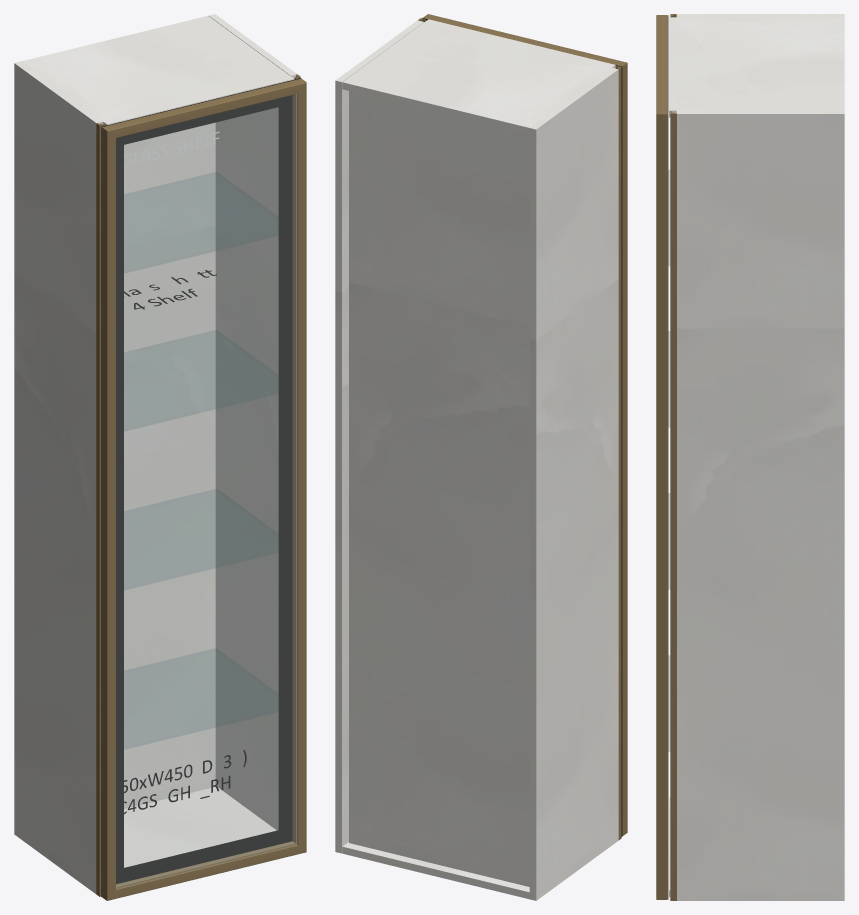
File: MDW-SH-NHX-GL-4SG-RHS-XXX-450-1650-336-15.glb
3 views of the same model, side by side, from view 1: azimuth 30°, elevation 25°; view 2: azimuth 150°, elevation 25°; view 3: azimuth 270°, elevation 25° (orthographic). The views are drawn at different scales.
Parts seen in each view (by area): view 1: Object_node_13, TP_node_0, TP_node_2, TP_node_1, Neon 22 Profile ALU PROF NEON 20 L21XH22.5MM 3MTR S2/405 SEC (×4), Object_node_15, TP, TP_node, Object_node_17, 2D text_node; view 2: TP_node_2, TP_node_0, TP, TP_node_1, Neon 22 Profile ALU PROF NEON 20 L21XH22.5MM 3MTR S2/405 SEC (×2), Object_node_17, TP_node, Object_node_15; view 3: TP_node_1, TP, Neon 22 Profile ALU PROF NEON 20 L21XH22.5MM 3MTR S2/405 SEC (×2), Object_node_23, Object_node_15, TP_node_0.
Part boxes in pixels (left/top/right/bottom): Object_node_13: left=116, top=94, right=297, bottom=888; TP_node_0: left=14, top=61, right=103, bottom=893; TP_node_2: left=124, top=122, right=215, bottom=808; TP_node_1: left=209, top=14, right=296, bottom=830; Neon 22 Profile ALU PROF NEON 20 L21XH22.5MM 3MTR S2/405 SEC (×4): left=101, top=78, right=306, bottom=900; Object_node_15: left=101, top=78, right=300, bottom=896; TP: left=21, top=16, right=294, bottom=125; TP_node: left=124, top=787, right=276, bottom=867; Object_node_17: left=96, top=123, right=104, bottom=896; 2D text_node: left=124, top=750, right=246, bottom=792; TP_node_2: left=349, top=91, right=529, bottom=886; TP_node_0: left=529, top=68, right=618, bottom=900; TP: left=342, top=19, right=615, bottom=134; TP_node_1: left=335, top=20, right=423, bottom=853; Neon 22 Profile ALU PROF NEON 20 L21XH22.5MM 3MTR S2/405 SEC (×2): left=423, top=14, right=627, bottom=836; Object_node_17: left=615, top=66, right=621, bottom=840; TP_node: left=342, top=842, right=529, bottom=899; Object_node_15: left=422, top=18, right=622, bottom=836; TP_node_1: left=676, top=110, right=844, bottom=900; TP: left=669, top=17, right=844, bottom=117; Neon 22 Profile ALU PROF NEON 20 L21XH22.5MM 3MTR S2/405 SEC (×2): left=656, top=15, right=667, bottom=899; Object_node_23: left=670, top=111, right=676, bottom=900; Object_node_15: left=668, top=15, right=668, bottom=899; TP_node_0: left=676, top=14, right=844, bottom=17.
Size of what is drawn, in the model's own units: 0.4501 by 1.65 by 0.358.
Materials: 7 (1 with a texture image).
